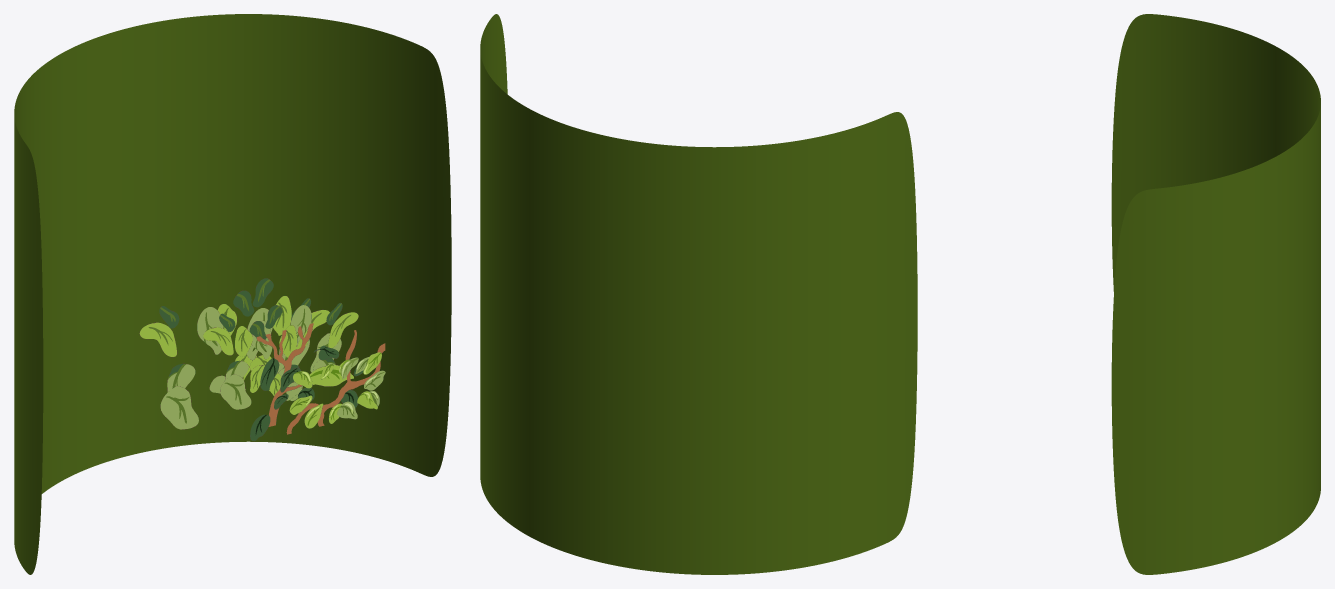
Rendered from bush.glb.
3 views of the same model, side by side, from view 1: azimuth 30°, elevation 25°; view 2: azimuth 150°, elevation 25°; view 3: azimuth 270°, elevation 25° (orthographic). The views are drawn at different scales.
Visible parts, largest first — view 1: Cylinder, back_leaf7.003, back_leaf6.002, n.382, back_leaf7, n.047, back_leaf7.002, back_leaf6, back_leaf6.001, back_leaf1.003, back_leaf7.001; view 2: Cylinder; view 3: Cylinder.
Boxes of the visible parts, x1,y1,x2,y2 form: Cylinder: (14,14,451,574); back_leaf7.003: (160,364,302,429); back_leaf6.002: (139,306,179,357); n.382: (256,323,313,426); back_leaf7: (220,358,335,409); n.047: (286,330,385,434); back_leaf7.002: (167,339,309,391); back_leaf6: (326,303,358,348); back_leaf6.001: (203,313,235,355); back_leaf1.003: (197,307,223,354); back_leaf7.001: (225,333,341,379); Cylinder: (480,14,917,574); Cylinder: (1111,14,1320,574).
Bounding box in the file's own units: 11.29 × 11.3 × 9.95.
